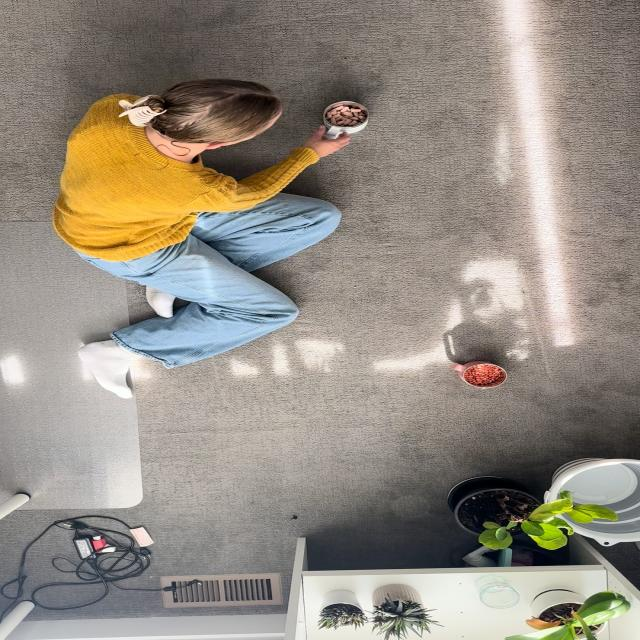IBC: (323, 101, 369, 138), (450, 361, 506, 388)
